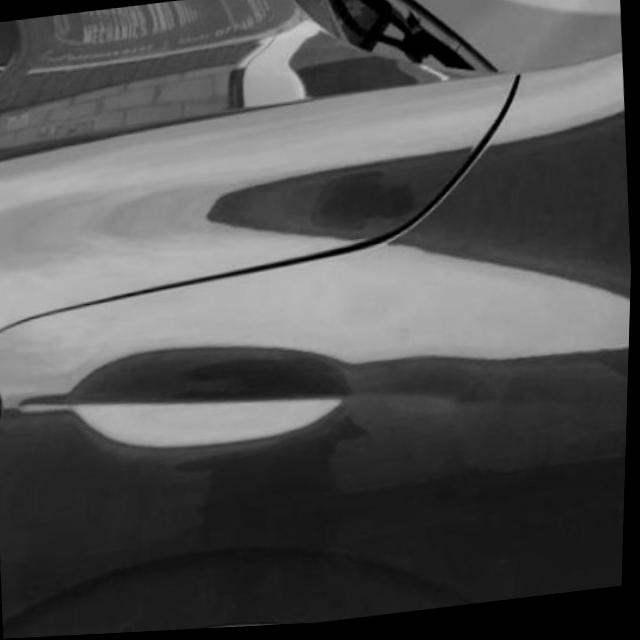Dent: (66, 343, 361, 464)
